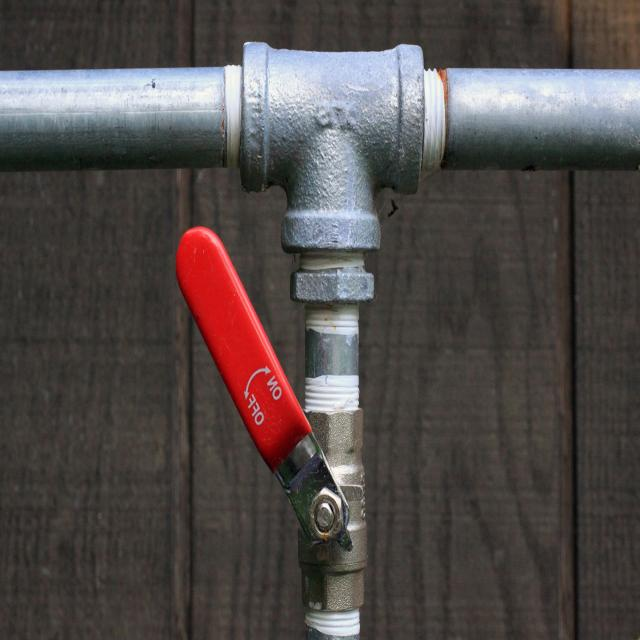Lever Handle Valve Threaded: (175, 226, 361, 610)
